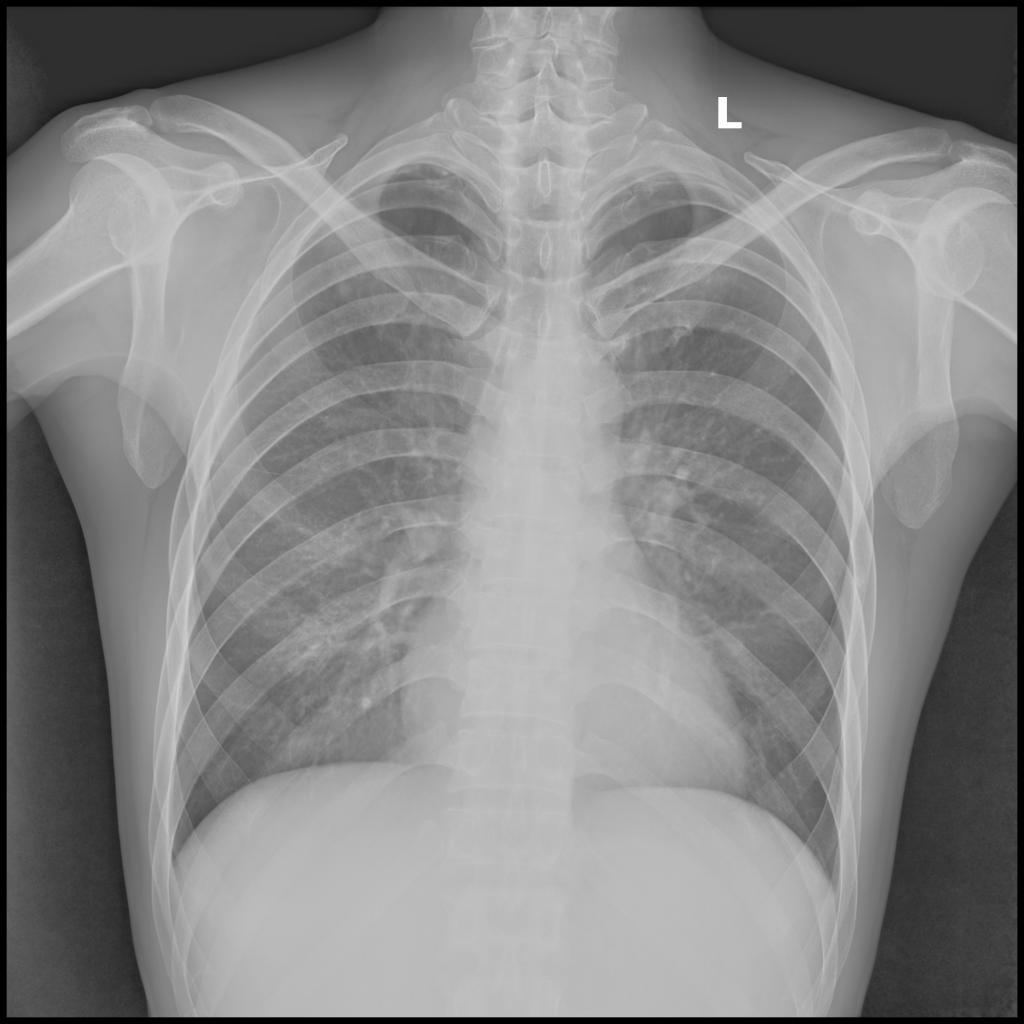Nodule: (336, 282, 353, 302)
